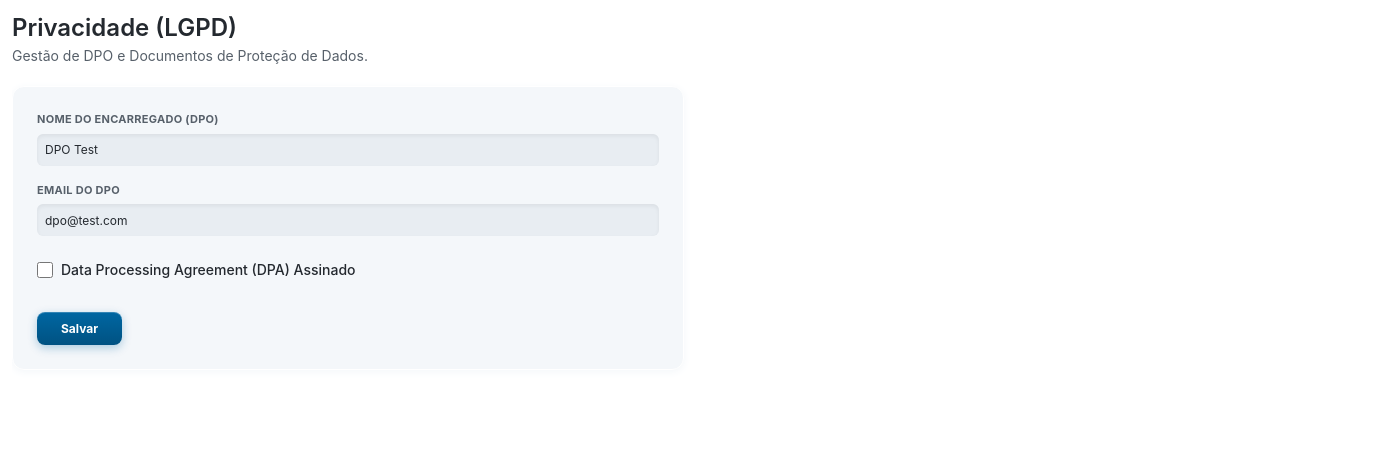
Test: PrivacidadePage › renders settings fields and saves changes
Expected: the field showing "DPO Test" below "Nome do Encarregado (DPO)" is shown, [37,134,659,166]
Expected: the field showing "dpo@test.com" below "Email do DPO" is shown, [37,204,659,236]
Step 1. Click the checkbox labelled "Data Processing Agreement (DPA) Assinado" → {"x": 45, "y": 270}, box [37,262,53,278]
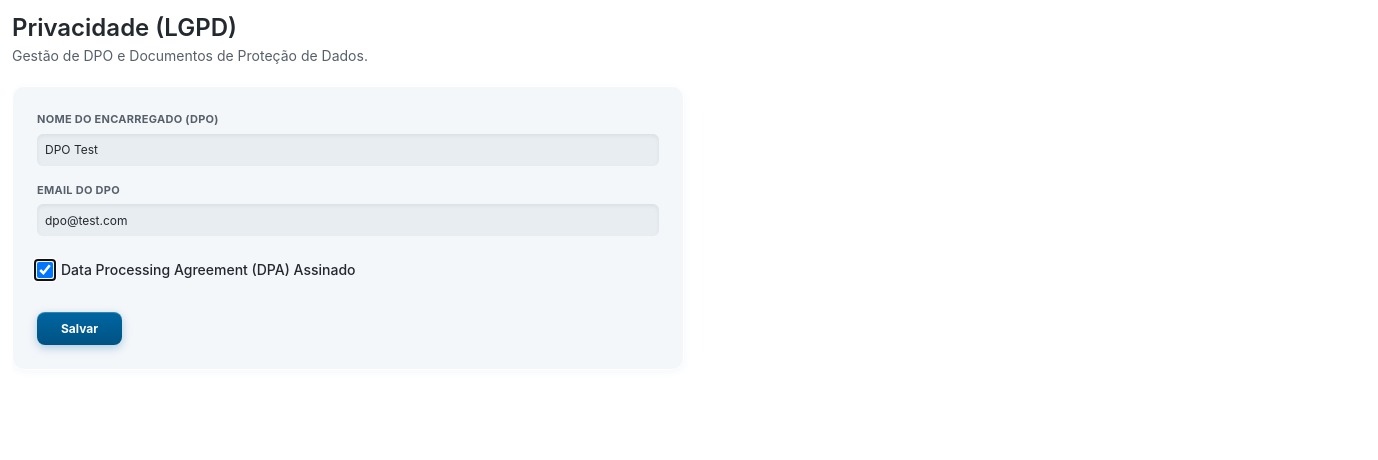
Expected: the checkbox labelled "Data Processing Agreement (DPA) Assinado" is checked, [37,262,53,278]
Step 2. Click the button "Salvar" → {"x": 80, "y": 328}, box [37,312,122,345]
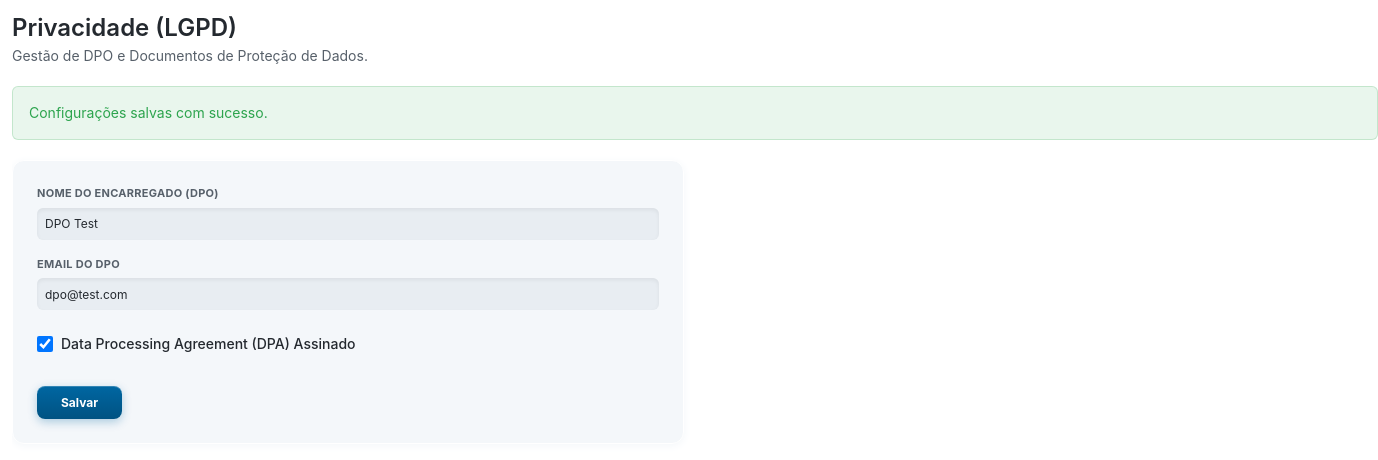
Expected: the text "Configurações salvas com sucesso." is shown, [12,86,1377,140]
